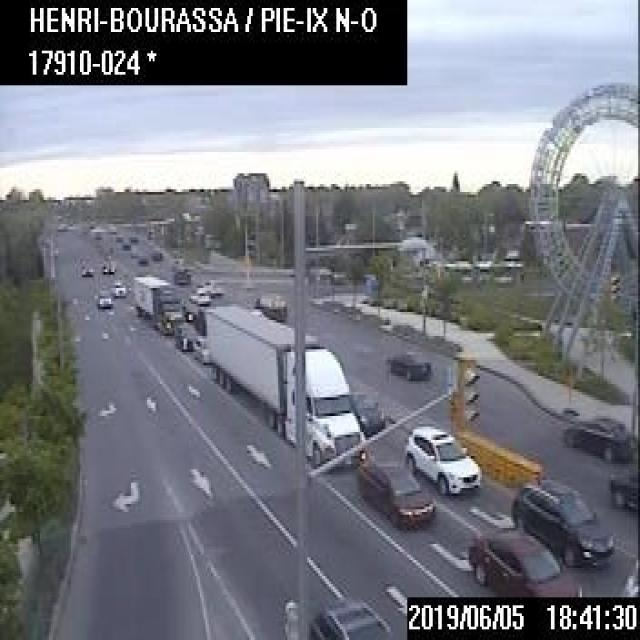vehicle: (206, 304, 366, 466), (509, 478, 612, 566), (465, 525, 582, 592), (354, 459, 434, 525), (403, 424, 479, 492), (307, 590, 395, 638), (562, 416, 632, 460), (132, 272, 182, 332), (349, 388, 384, 431), (385, 346, 431, 378), (607, 464, 638, 509), (253, 291, 286, 319), (174, 321, 196, 348), (626, 552, 638, 595), (192, 333, 208, 362), (96, 288, 110, 306), (174, 264, 188, 282), (111, 280, 125, 295), (101, 259, 113, 271), (80, 262, 91, 274), (196, 290, 206, 303), (150, 248, 161, 257), (121, 237, 129, 247), (128, 232, 136, 240), (138, 254, 146, 262), (129, 248, 137, 255)
